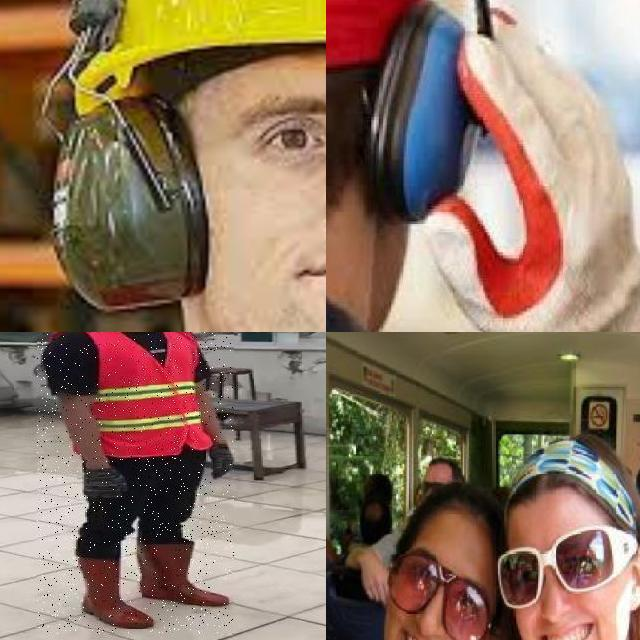Ear-protection: (30, 0, 326, 332), (355, 0, 492, 222)
No_Ear-Protection: (626, 541, 640, 612)
No_Glasses: (200, 71, 326, 179)
boots: (74, 553, 154, 629), (136, 543, 232, 605)
face_nomask: (498, 532, 626, 640), (389, 550, 480, 640)
glasses: (498, 529, 626, 611), (385, 543, 491, 640)
hand_glove: (425, 2, 640, 332)
hand_noglove: (357, 549, 391, 608)
head_nohelmet: (501, 441, 624, 520), (404, 480, 491, 541), (422, 452, 462, 482)
person: (37, 332, 234, 634), (472, 440, 640, 640), (326, 477, 487, 640)
vest: (62, 332, 208, 455)
